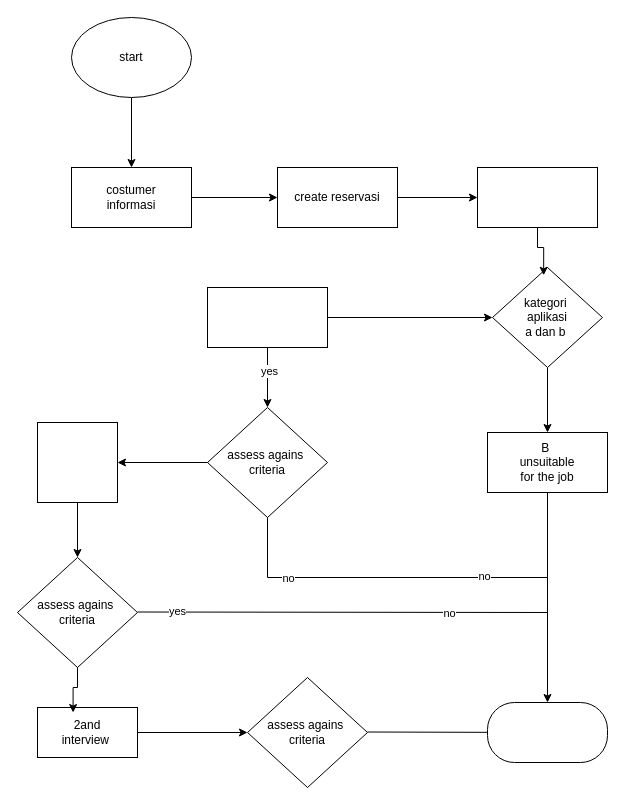
This 625x805 diagram has some shape labels left out. The box of each missing label's shape, as (x1, y1, x2, y2) in pixels:
A suitable for the job: (206, 286, 328, 348)
interview candidates: (36, 422, 118, 502)
open reservasi: (476, 166, 598, 228)
send thank you letter/email: (486, 702, 608, 762)
